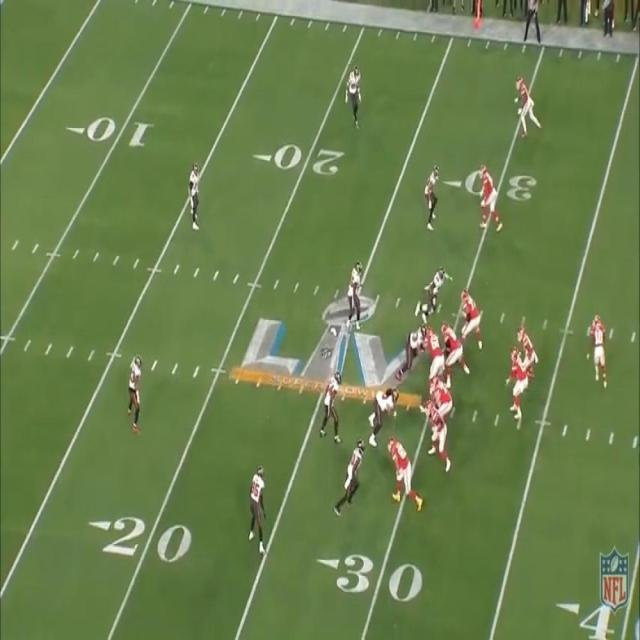center: (424, 328, 442, 371)
db: (250, 468, 268, 548), (424, 162, 441, 228), (345, 65, 364, 122), (186, 162, 202, 226), (129, 353, 142, 426)
lb: (323, 371, 340, 432), (351, 260, 365, 322)
qb: (510, 346, 526, 416)
skill: (389, 438, 419, 508), (514, 77, 542, 138), (587, 314, 610, 387), (480, 167, 502, 229), (520, 328, 540, 367)
